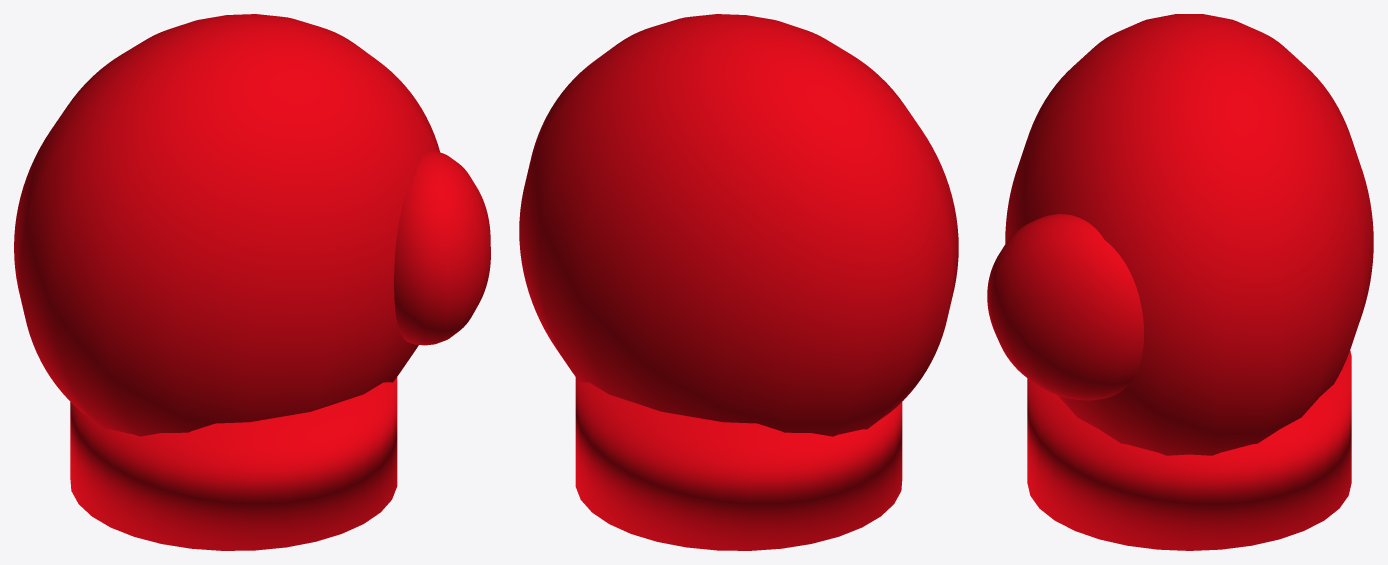
File: boxsingglobe.glb
3 renders of one model, left to right at view 1: azimuth 30°, elevation 25°; view 2: azimuth 150°, elevation 25°; view 3: azimuth 270°, elevation 25°, orthographic.
Visible parts, largest first — view 1: Sphere, Cylinder, Sphere.001; view 2: Sphere, Cylinder; view 3: Sphere, Cylinder, Sphere.001.
Boxes of the visible parts, x1,y1,x2,y2 form: Sphere: [14, 14, 439, 436]; Cylinder: [70, 377, 397, 550]; Sphere.001: [394, 151, 490, 345]; Sphere: [519, 14, 958, 436]; Cylinder: [575, 377, 902, 550]; Sphere: [1005, 14, 1373, 455]; Cylinder: [1027, 350, 1351, 550]; Sphere.001: [987, 214, 1143, 400].
Size of the model in its own units: 2.79 by 3.04 by 2.38.
